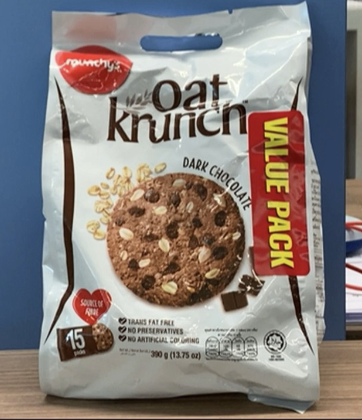cookies_150g: (60, 60, 301, 369)
